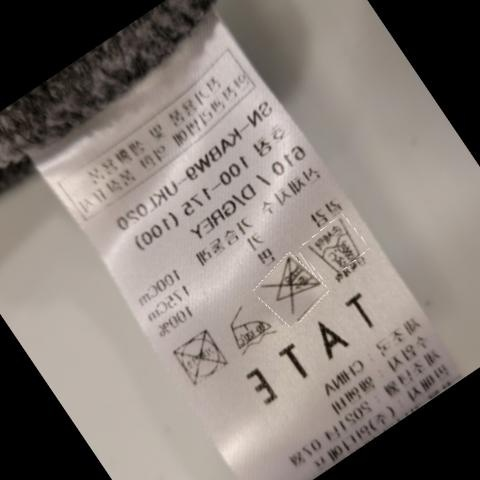DN_tumble_dry: (172, 332, 226, 389)
hand_wash: (310, 223, 365, 274)
iron_low: (226, 303, 274, 354)
non_chlorine_bleach: (263, 257, 318, 313)
